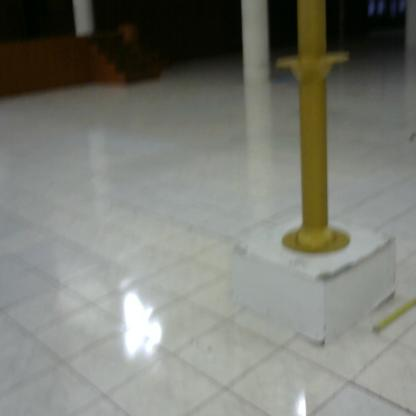pole: (268, 1, 357, 266)
